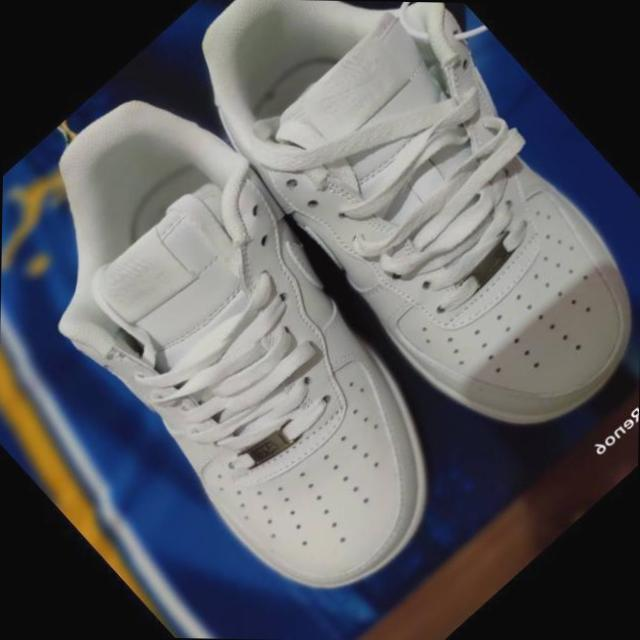nike_fake_airforce: (0, 55, 523, 638), (135, 0, 640, 474)
